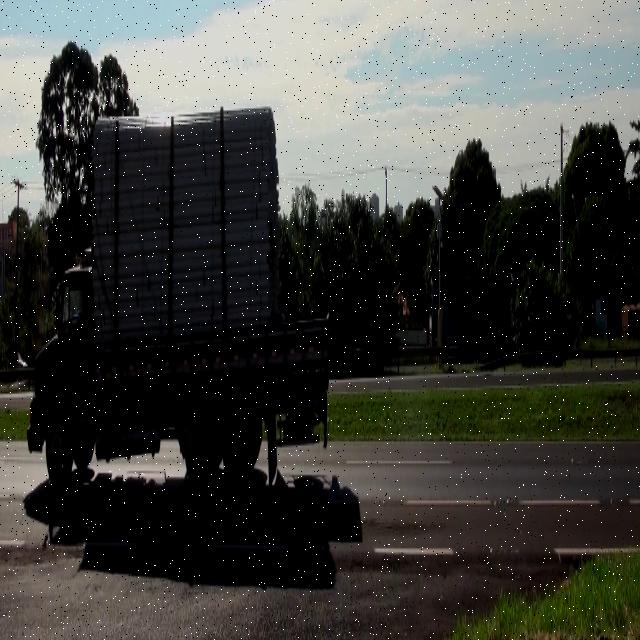-axle: (183, 397, 217, 492), (224, 402, 255, 490), (44, 415, 72, 484)
